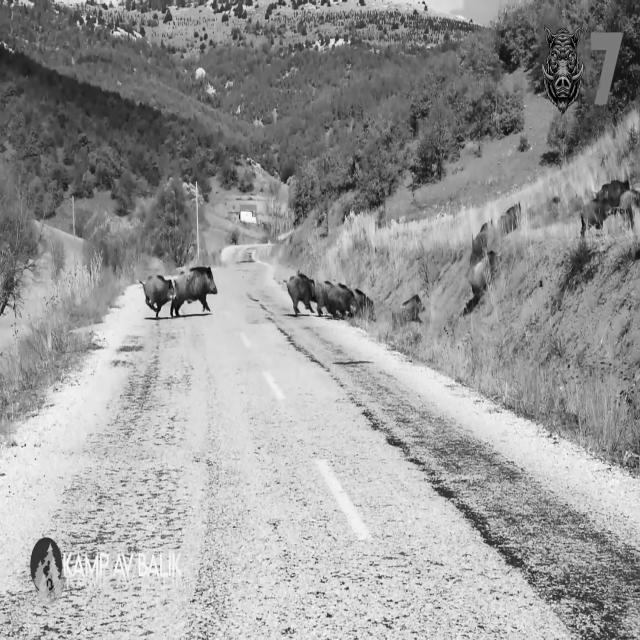boar: (286, 272, 373, 318), (143, 265, 217, 316), (543, 25, 585, 112), (582, 178, 630, 233), (464, 250, 499, 314), (392, 294, 423, 326), (471, 221, 490, 265), (501, 201, 522, 233), (621, 188, 640, 208)
